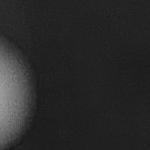colony: (0, 31, 43, 150)
